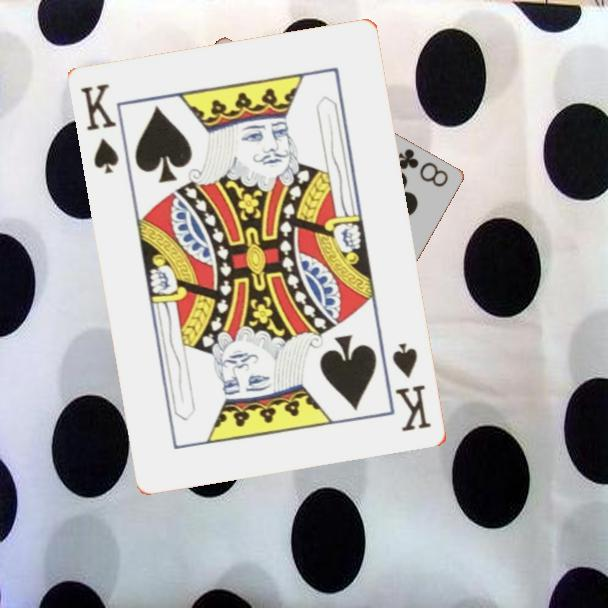c08: (394, 145, 452, 190)
s13: (389, 339, 435, 435), (78, 80, 122, 177)
